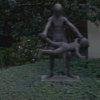Statue: (34, 2, 87, 84)
